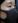with_mask: (1, 1, 18, 23)
